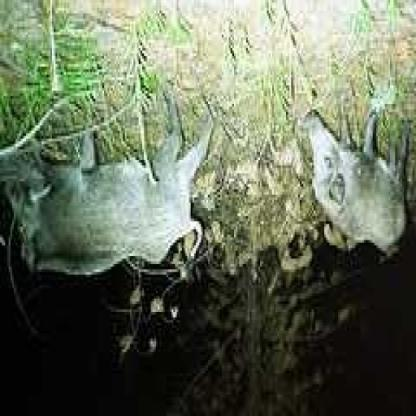boar: (2, 66, 219, 318), (287, 99, 413, 266)
